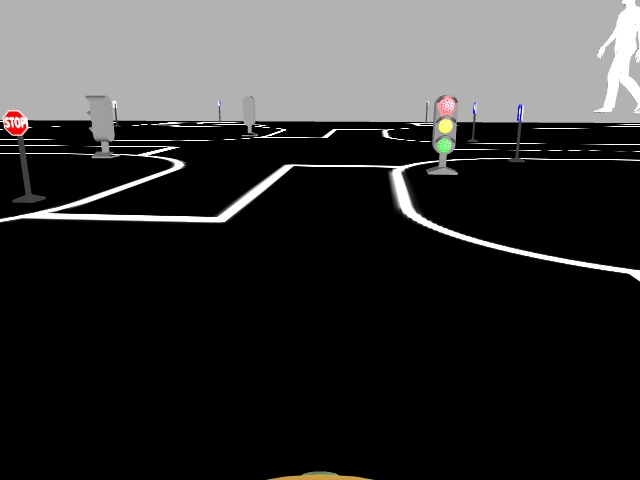Stop: (2, 109, 26, 138)
TrafficLight: (431, 93, 457, 153)
